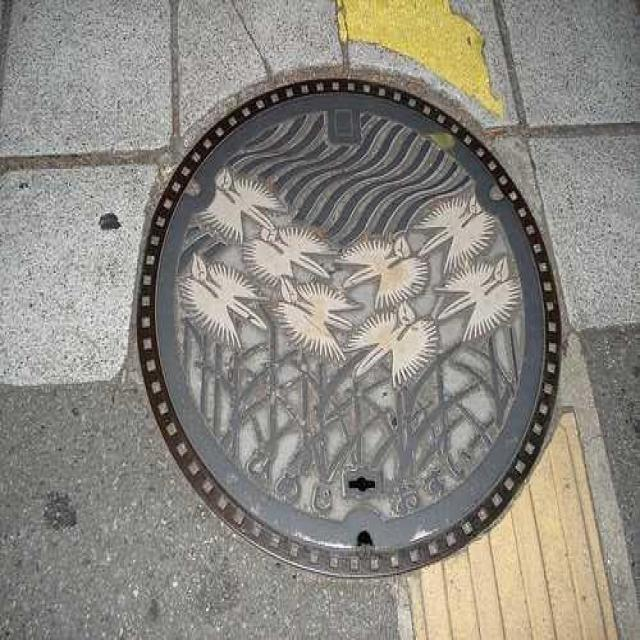manhole: (137, 77, 561, 577)
